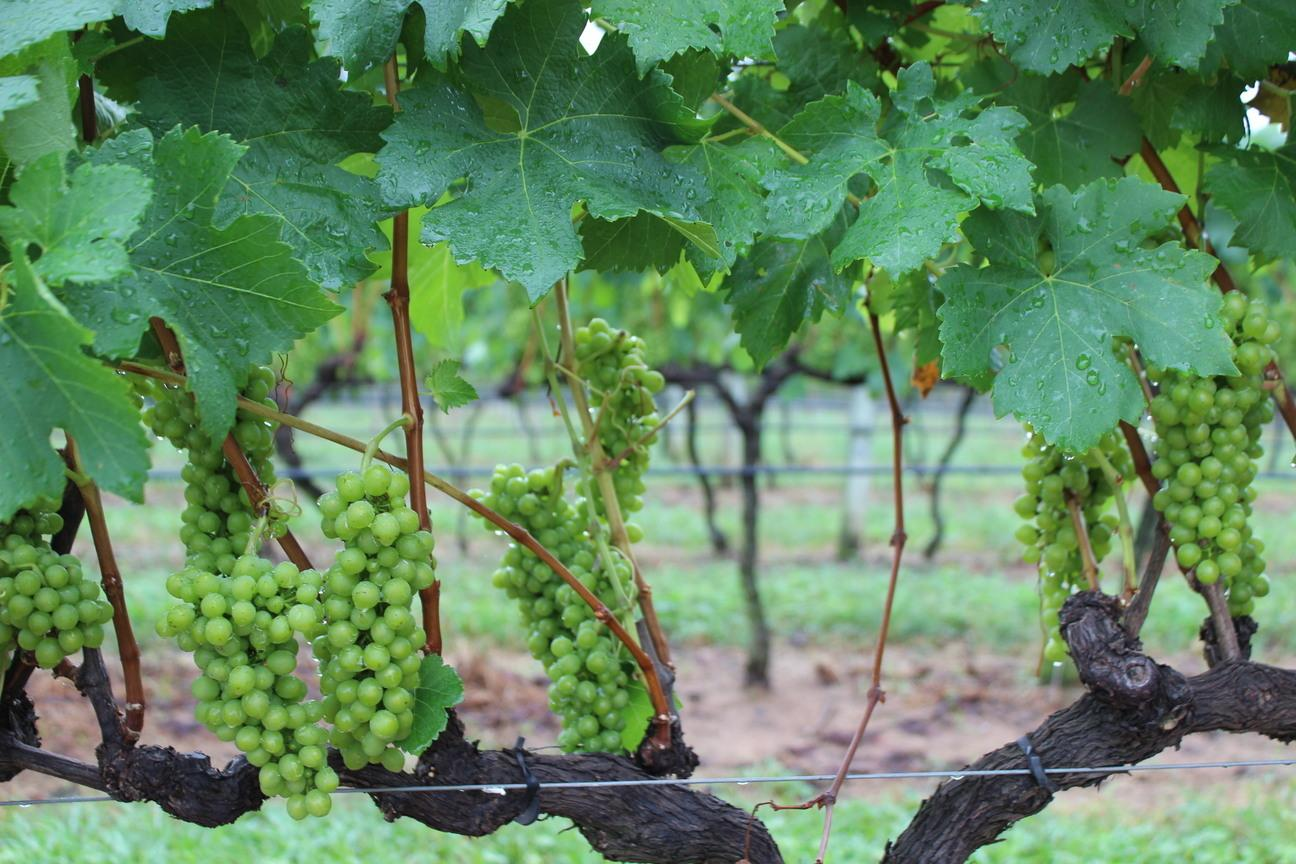leaf: (377, 0, 708, 299), (60, 128, 338, 437), (938, 178, 1233, 449), (118, 10, 390, 287), (761, 63, 1032, 275), (0, 252, 148, 519), (724, 206, 853, 367), (0, 152, 149, 284), (977, 0, 1235, 71), (999, 71, 1138, 187), (591, 0, 784, 72), (1204, 144, 1295, 256), (0, 36, 75, 164), (311, 0, 411, 71), (0, 0, 118, 55), (398, 653, 461, 754), (1215, 0, 1295, 79), (423, 0, 506, 67), (118, 0, 211, 35), (423, 357, 478, 413), (0, 76, 37, 118)
